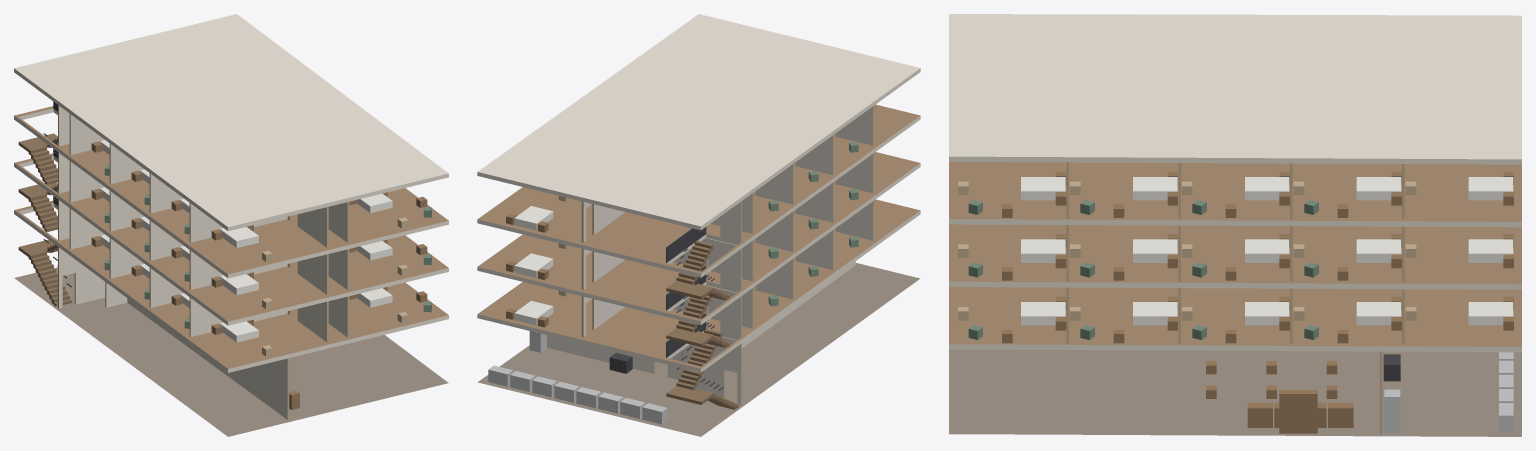
The model's file is interior.glb.
3 views of the same model, side by side, from view 1: azimuth 30°, elevation 25°; view 2: azimuth 150°, elevation 25°; view 3: azimuth 270°, elevation 25° (orthographic). The views are drawn at different scales.
Parts seen in each view (by area): view 1: slabs, partitions, stair, coarse-s2, coarse-s1, coarse-s3; view 2: slabs, partitions, stair, coarse-s0, coarse-s1, coarse-s2, coarse-s3; view 3: slabs, coarse-s3, coarse-s1, coarse-s2, coarse-s0, partitions.
Part boxes in pixels (x1,y1,x2,y2): slabs: (14, 14, 448, 436); partitions: (58, 105, 349, 419); stair: (18, 101, 72, 306); coarse-s2: (91, 187, 431, 308); coarse-s1: (91, 234, 431, 356); coarse-s3: (91, 140, 431, 261); slabs: (477, 14, 920, 436); partitions: (547, 106, 873, 405); stair: (666, 227, 738, 409); coarse-s0: (488, 331, 667, 424); coarse-s1: (506, 199, 875, 327); coarse-s2: (506, 152, 875, 279); coarse-s3: (506, 104, 875, 232); slabs: (949, 14, 1521, 436); coarse-s3: (958, 171, 1513, 217); coarse-s1: (958, 296, 1513, 343); coarse-s2: (958, 234, 1513, 280); coarse-s0: (1206, 352, 1513, 433); partitions: (1066, 162, 1404, 433).
Size of the model in its own units: 15.39 by 13.72 by 25.63.
